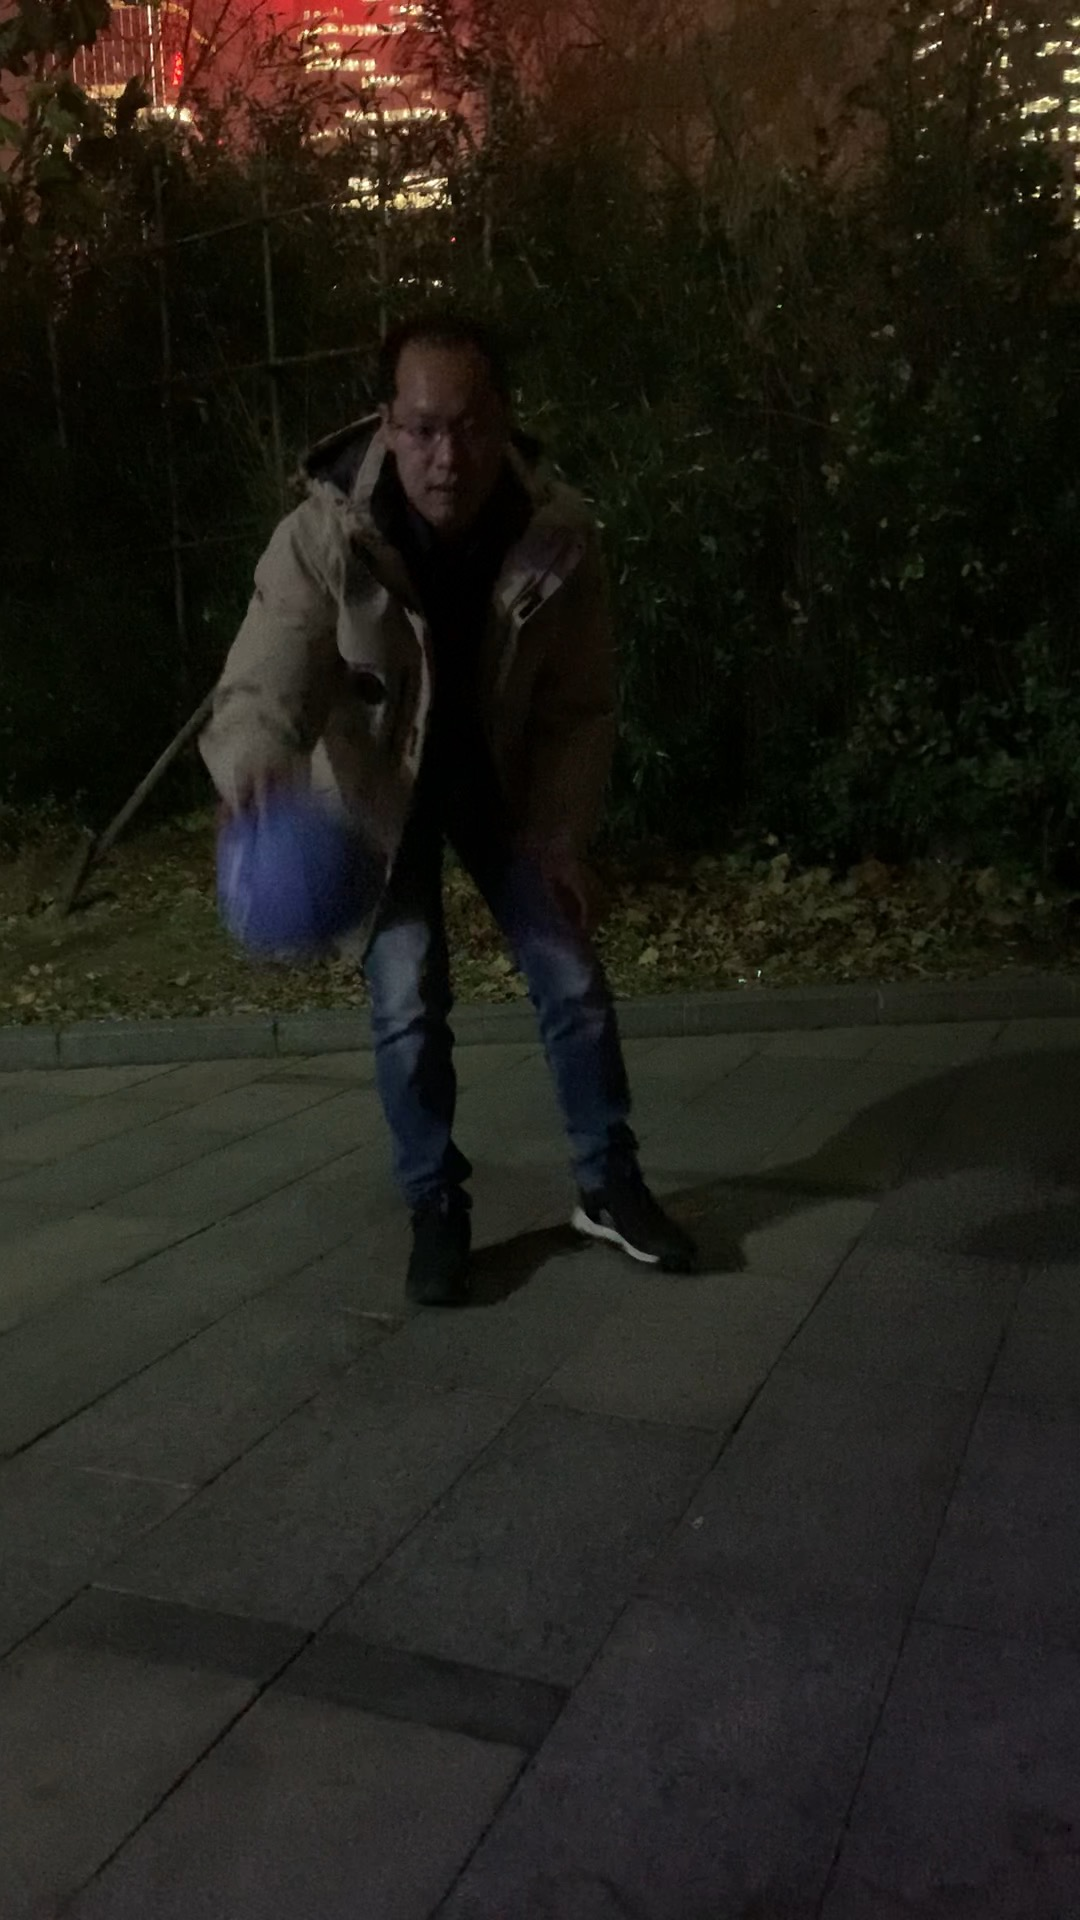ball: (215, 786, 385, 957)
